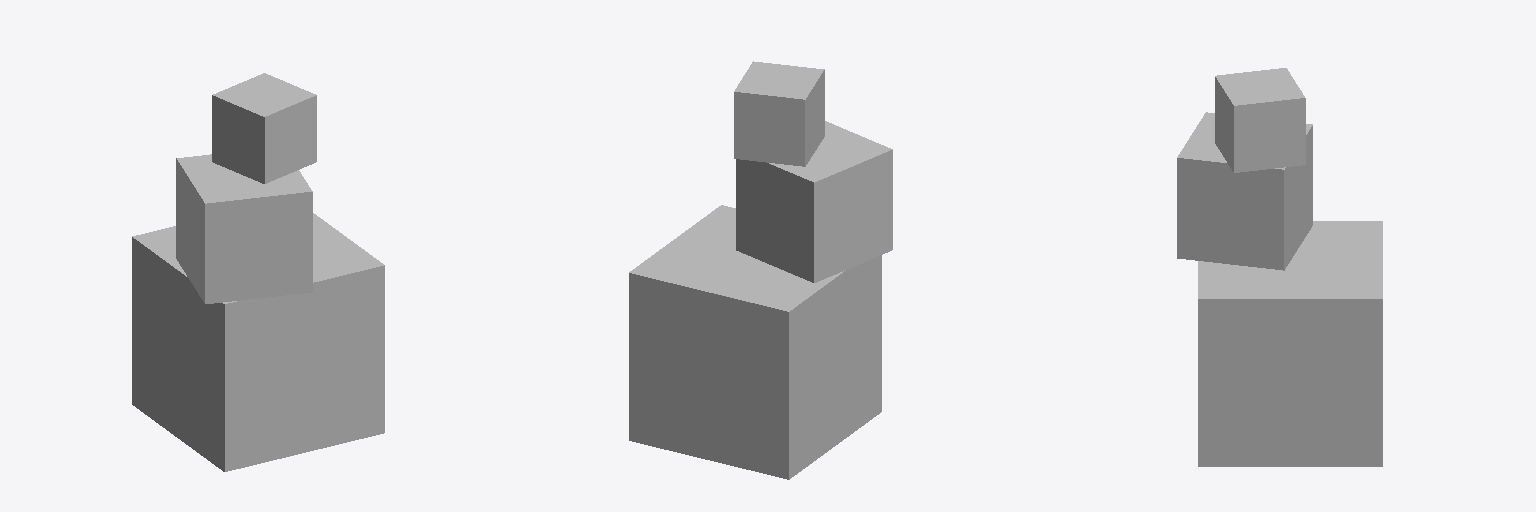
The model's file is props_cube_3.obj.
The picture shows the model from 3 angles: view 1: azimuth 30°, elevation 25°; view 2: azimuth 150°, elevation 25°; view 3: azimuth 270°, elevation 25°; orthographic projection.
Parts seen in each view (by area): view 1: polySurface10; view 2: polySurface10; view 3: polySurface10.
Boxes of the visible parts, box(x1,y1,x2,y2) form: polySurface10: box(132, 73, 384, 471); polySurface10: box(629, 61, 892, 479); polySurface10: box(1177, 68, 1382, 466).
Size of the model in its own units: 0.0274 by 0.0502 by 0.0278.